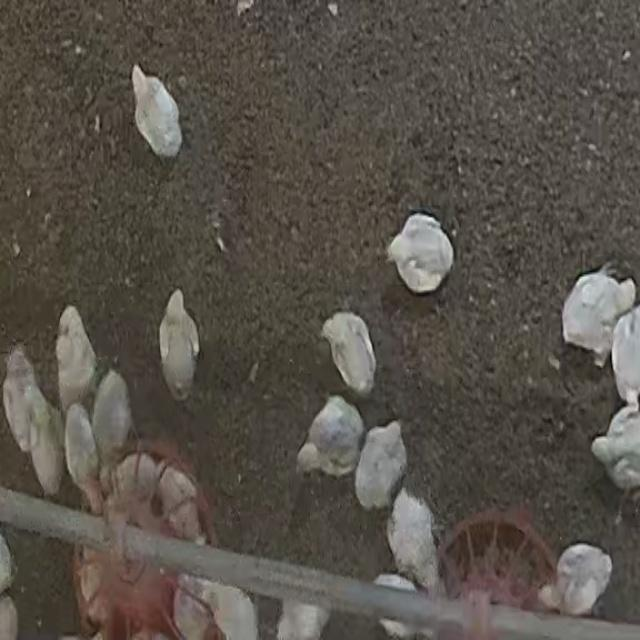chicken: (1, 346, 63, 497), (560, 265, 636, 366), (383, 208, 459, 297), (292, 393, 366, 481), (128, 58, 188, 166), (316, 304, 382, 399), (538, 541, 614, 618), (387, 488, 442, 593), (154, 286, 203, 402), (351, 418, 410, 512), (155, 459, 215, 543), (53, 302, 99, 408), (90, 369, 134, 478), (63, 399, 105, 511)
